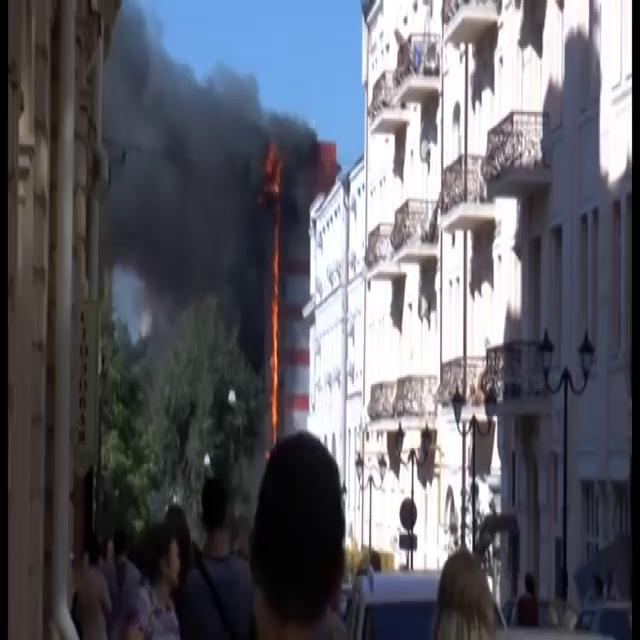Fire: (269, 232, 282, 430)
Smoke: (94, 4, 294, 344)
